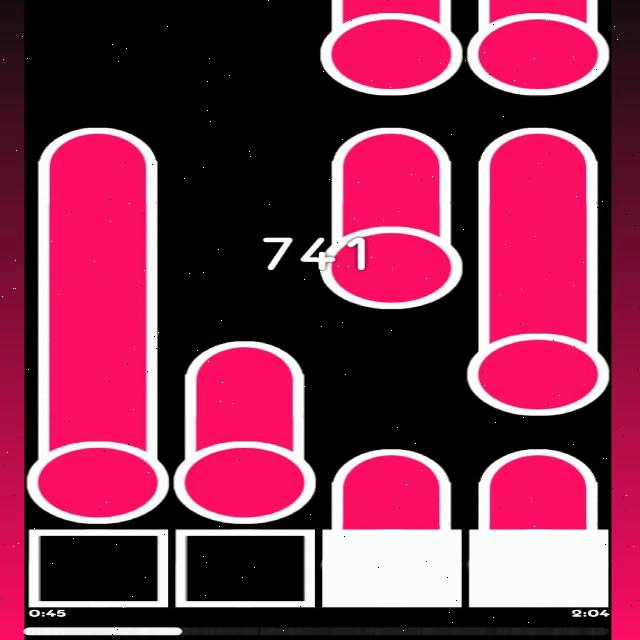end_hold: (467, 108, 607, 180), (28, 108, 168, 172), (326, 113, 457, 180), (176, 319, 312, 383), (472, 435, 606, 494), (328, 432, 457, 490)
start_hold: (322, 210, 464, 310), (172, 425, 314, 524), (466, 320, 610, 417), (28, 431, 169, 526), (319, 6, 463, 97), (471, 6, 612, 94)
